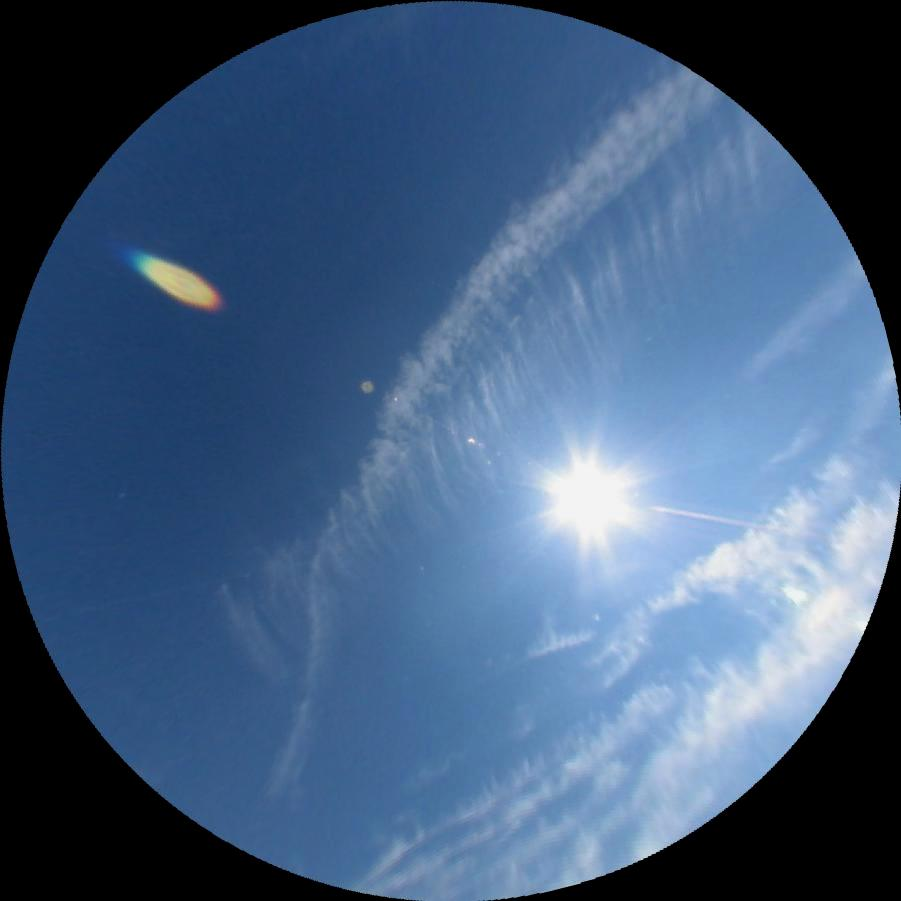contrail veryold: (163, 18, 730, 810), (191, 90, 827, 712), (740, 254, 879, 392)
parasite: (646, 502, 760, 529)
sun: (561, 473, 622, 524)
